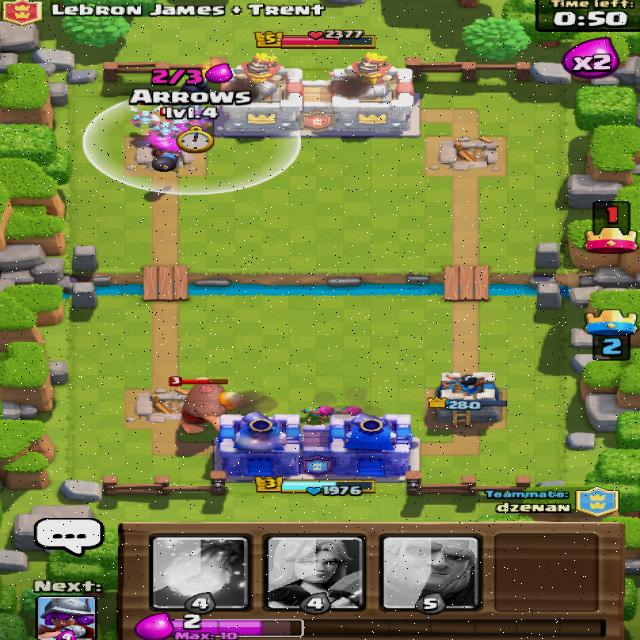Enemy-Giant: (166, 371, 242, 435)
Enemy-Minion: (152, 106, 179, 137), (127, 103, 160, 128)
Player-Archer: (297, 404, 335, 423), (332, 406, 362, 416)
Player-Bomber: (149, 151, 182, 174)
